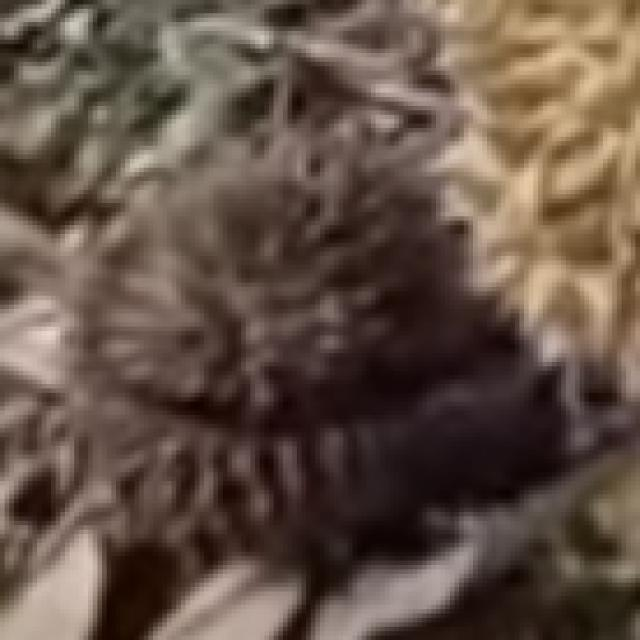defective: (69, 129, 558, 530)
